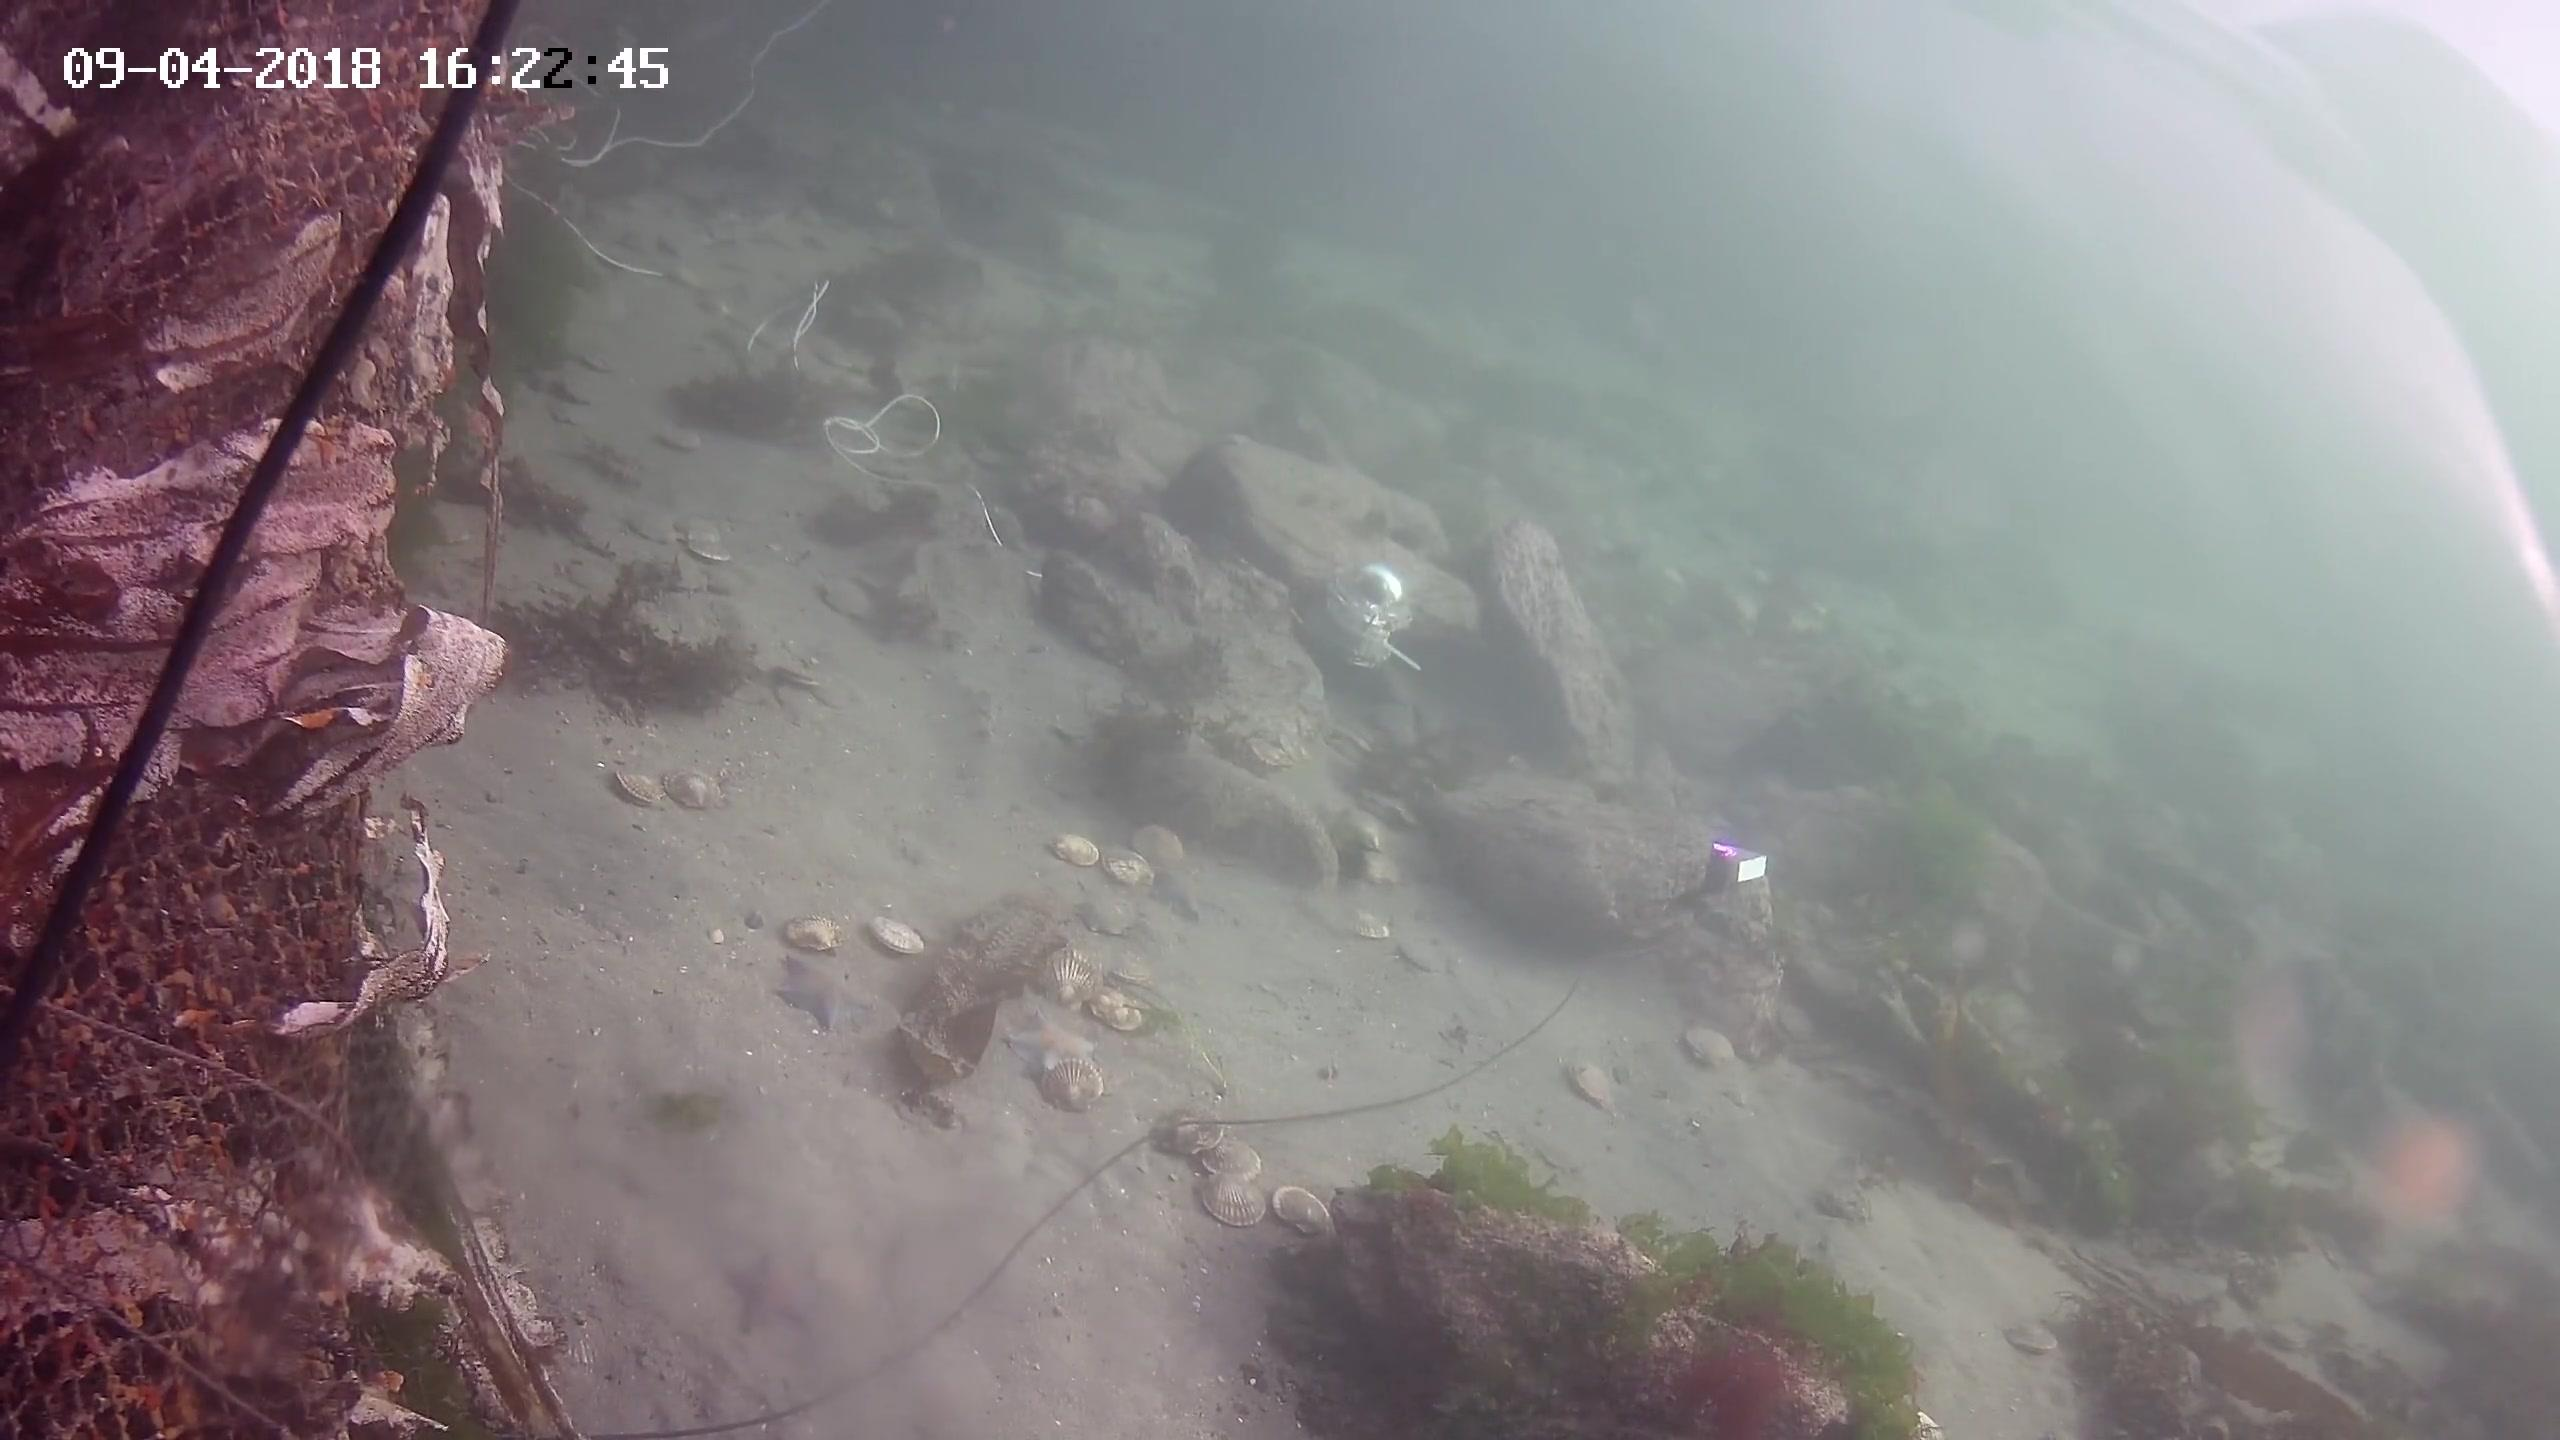scallop: (1023, 934, 1118, 1007), (1269, 1176, 1343, 1247), (779, 905, 860, 964), (867, 905, 934, 969), (1197, 1127, 1268, 1187), (1561, 1053, 1626, 1116), (1809, 1173, 1880, 1231), (1672, 1018, 1744, 1074), (1152, 1104, 1225, 1159), (600, 758, 675, 805), (2006, 1310, 2069, 1366), (665, 758, 730, 812), (1194, 1175, 1261, 1227), (818, 573, 884, 622), (686, 515, 742, 570), (1048, 1057, 1104, 1109), (1102, 840, 1159, 891), (1336, 807, 1393, 856), (1129, 818, 1187, 863), (1046, 826, 1108, 869), (631, 505, 686, 545), (1080, 993, 1141, 1027), (1391, 941, 1444, 978), (1273, 723, 1313, 770), (772, 651, 819, 689), (1356, 847, 1400, 886), (1247, 735, 1292, 772), (1356, 911, 1403, 942)
starfish: (2345, 1104, 2516, 1268), (2212, 955, 2338, 1145), (719, 1248, 832, 1340), (774, 955, 870, 1036), (1009, 1013, 1088, 1087), (1138, 862, 1217, 923)
